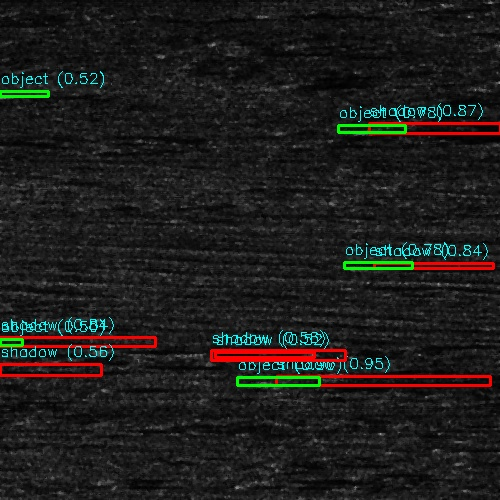rock: (336, 123, 429, 136)
shadow: (0, 333, 148, 350), (383, 123, 500, 136)
